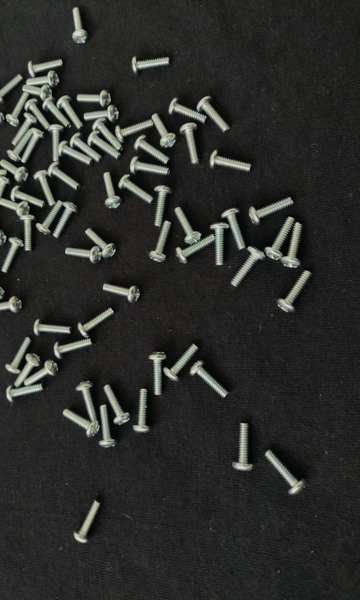shortscrew: (265, 450, 307, 497), (231, 247, 269, 288), (277, 270, 313, 313), (190, 361, 230, 399), (266, 216, 297, 261), (164, 344, 199, 383), (249, 197, 295, 226), (176, 233, 217, 264), (77, 307, 117, 338), (73, 501, 100, 545), (197, 97, 230, 132), (104, 385, 132, 426), (232, 424, 255, 473), (119, 174, 155, 205), (134, 135, 171, 165), (63, 410, 101, 438), (174, 207, 202, 245), (52, 201, 80, 239), (222, 208, 247, 250), (281, 223, 304, 268), (75, 381, 99, 424), (6, 336, 32, 375), (13, 353, 41, 389), (85, 229, 118, 259), (48, 162, 81, 192), (93, 118, 123, 151), (56, 95, 84, 130), (169, 98, 208, 123), (24, 360, 60, 387), (36, 200, 63, 236), (150, 222, 174, 262), (87, 131, 121, 158), (209, 150, 252, 171), (133, 389, 153, 434), (42, 98, 72, 128), (116, 119, 153, 143), (148, 352, 168, 396), (55, 337, 95, 359), (152, 114, 177, 149), (21, 129, 46, 164), (71, 132, 101, 161), (12, 113, 38, 146), (2, 238, 26, 273), (25, 99, 51, 131), (99, 405, 118, 448), (210, 223, 229, 266), (34, 170, 56, 207), (7, 132, 34, 162), (131, 156, 171, 176), (58, 142, 94, 164), (6, 92, 29, 126), (133, 55, 172, 75), (11, 186, 46, 208), (180, 123, 199, 163), (155, 186, 173, 227), (103, 284, 141, 303), (34, 318, 72, 337), (6, 384, 44, 403), (0, 75, 25, 103), (103, 173, 122, 209), (28, 59, 64, 78), (66, 246, 103, 264), (48, 124, 65, 162), (0, 160, 28, 183), (77, 89, 112, 107), (20, 214, 36, 252), (85, 105, 119, 122), (73, 8, 89, 43), (22, 84, 53, 101), (0, 199, 30, 216), (27, 71, 60, 86), (0, 296, 23, 314), (0, 285, 8, 315), (0, 109, 6, 134), (0, 165, 8, 180), (0, 230, 7, 245), (0, 212, 2, 234)
